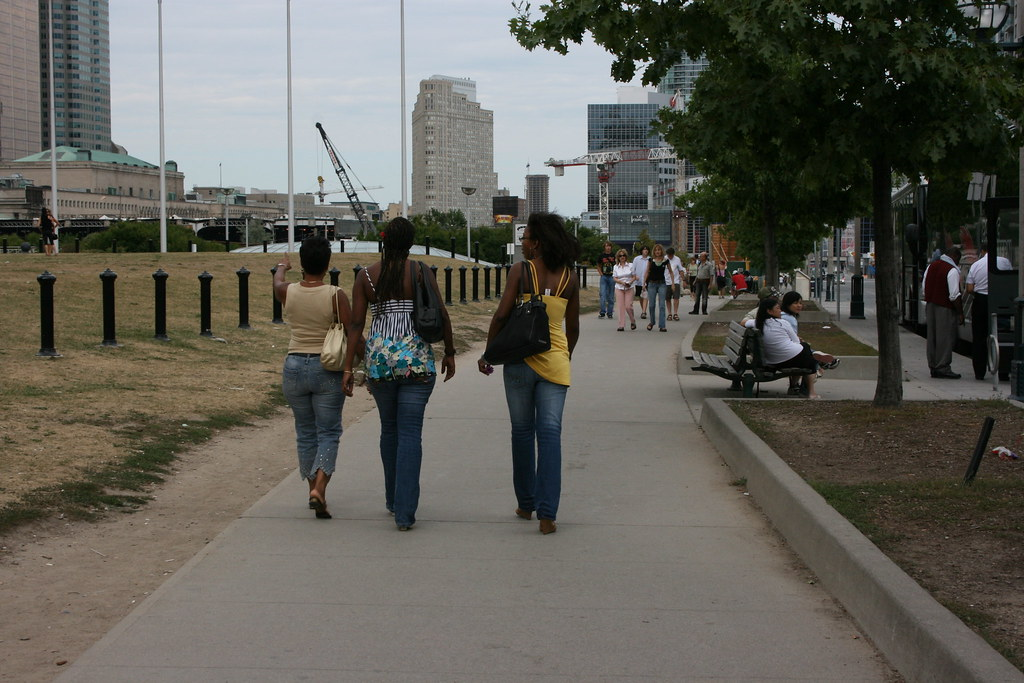person: (472, 204, 598, 539), (338, 207, 464, 537), (266, 221, 362, 531), (750, 289, 839, 399), (917, 234, 972, 383), (638, 238, 680, 337), (610, 243, 640, 337), (688, 246, 720, 318), (628, 239, 655, 322), (659, 241, 688, 318), (628, 239, 654, 323), (594, 239, 618, 324)
